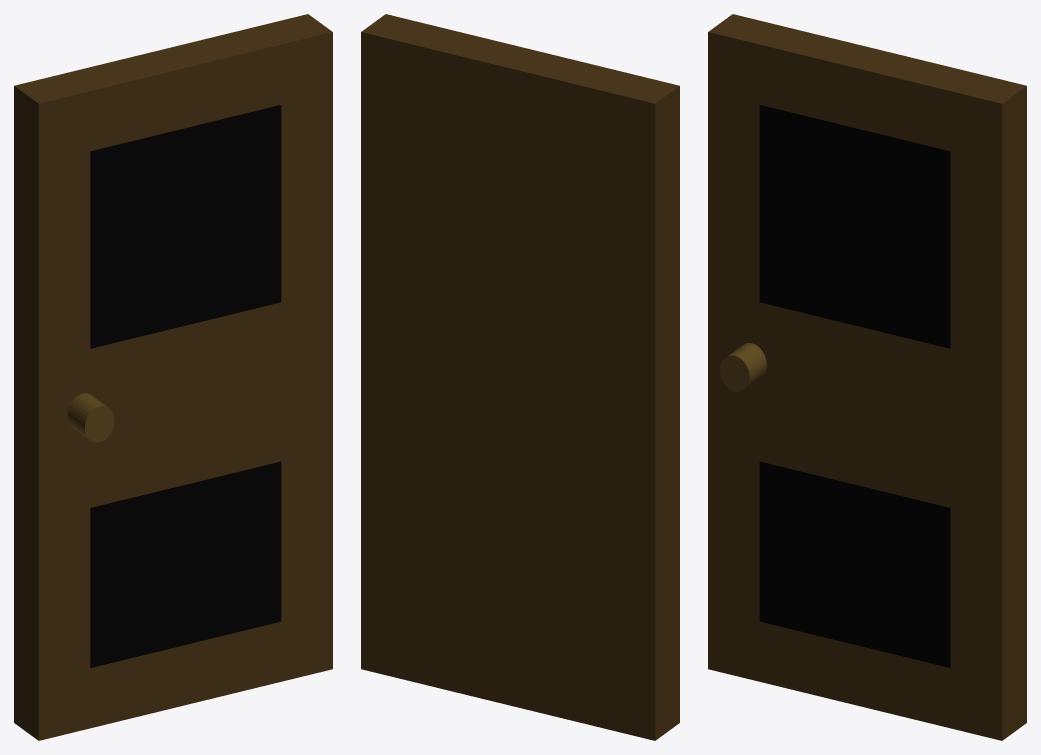
The model's file is Puerta.fbx.
3 views of the same model, side by side, from view 1: azimuth 30°, elevation 25°; view 2: azimuth 150°, elevation 25°; view 3: azimuth 330°, elevation 25° (orthographic).
Visible parts, largest first — view 1: Puerta.001; view 2: Puerta.001; view 3: Puerta.001.
Part boxes in pixels (box(x1,y1,x2,y2)): Puerta.001: box(14, 14, 332, 740); Puerta.001: box(361, 14, 679, 740); Puerta.001: box(708, 14, 1026, 740).
Bounding box in the file's own units: 226 × 467 × 55.43.
